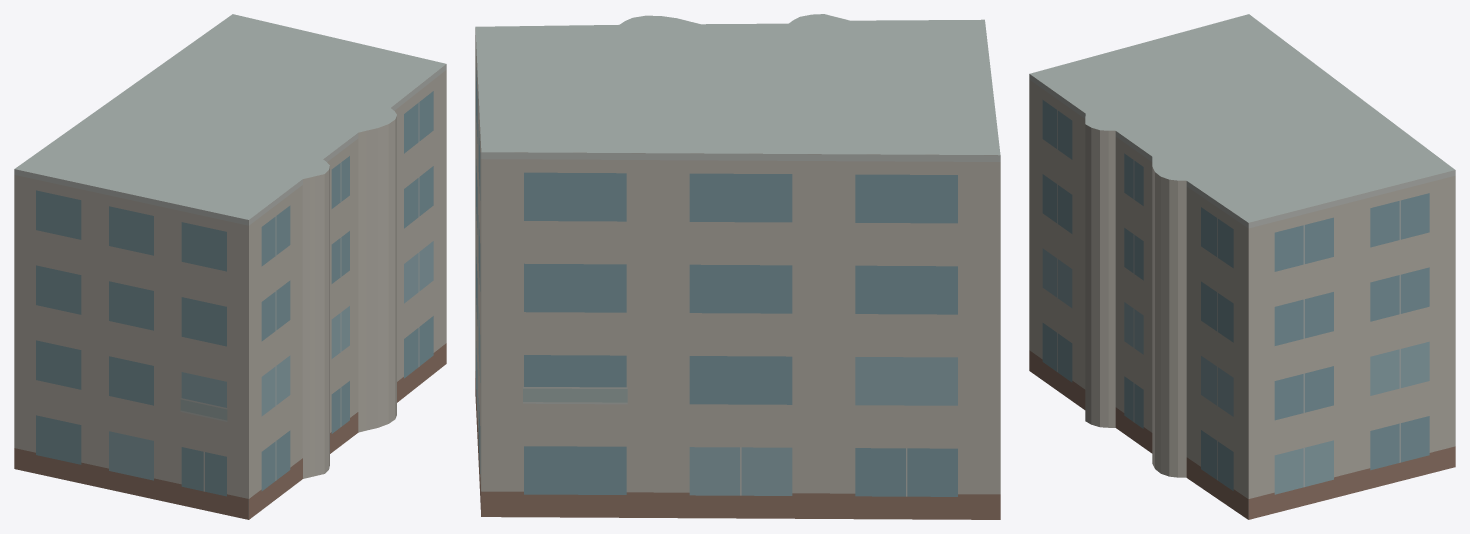
Rendered from survey-upis-32463681.glb.
The picture shows the model from 3 angles, left to right: view 1: azimuth 30°, elevation 25°; view 2: azimuth 150°, elevation 25°; view 3: azimuth 270°, elevation 25°; orthographic projection. The views are drawn at different scales.
Visible parts, largest first — view 1: survey-upis-32463681.tmp; view 2: survey-upis-32463681.tmp; view 3: survey-upis-32463681.tmp.
Part boxes in pixels (x1,y1,x2,y2): survey-upis-32463681.tmp: (14, 14, 446, 519); survey-upis-32463681.tmp: (475, 14, 1000, 519); survey-upis-32463681.tmp: (1029, 14, 1455, 519).
Size of the model in its own units: 19.31 by 12.8 by 16.65.
